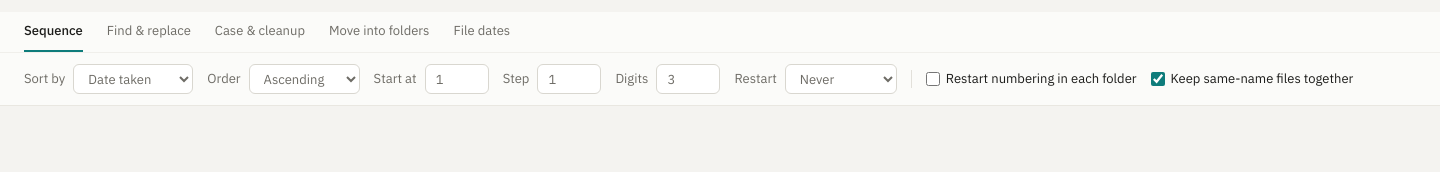
Test: OptionTabs › says the sequence settings need {seq} once one is changed without it, and adds it
This screenshot has width=1440, height=172.
Expected: the text "The pattern has no {seq}" is not shown
Replace the text in the field labelled "Start at" with "3": (457, 79) [425, 64, 489, 94]
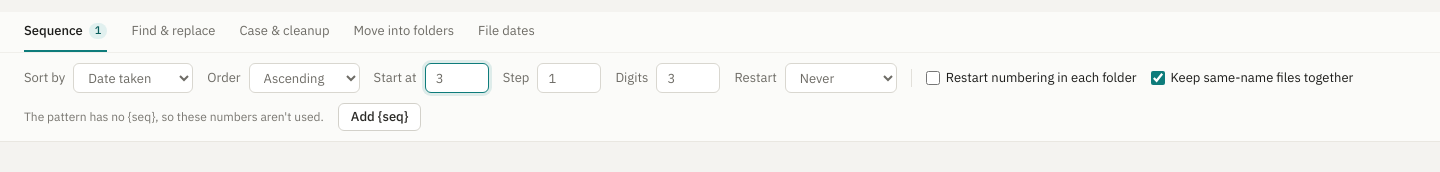
Result: the text "The pattern has no {seq}, so these numbers aren't used." is shown at [24, 109, 324, 125]
Click the button "Add {seq}": (380, 117) [338, 103, 421, 131]
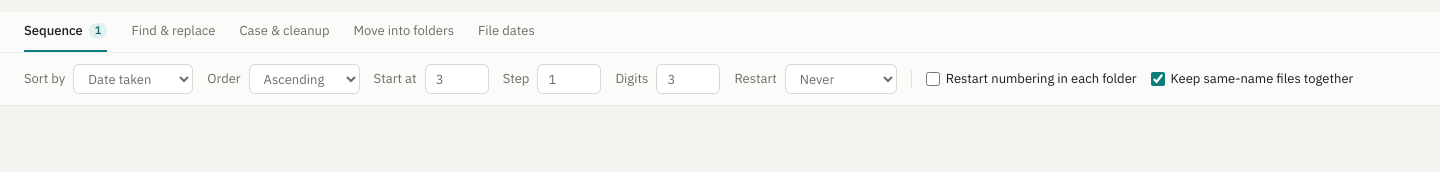
Result: the text "The pattern has no {seq}" is gone
Result: the button "Add {seq}" is gone
